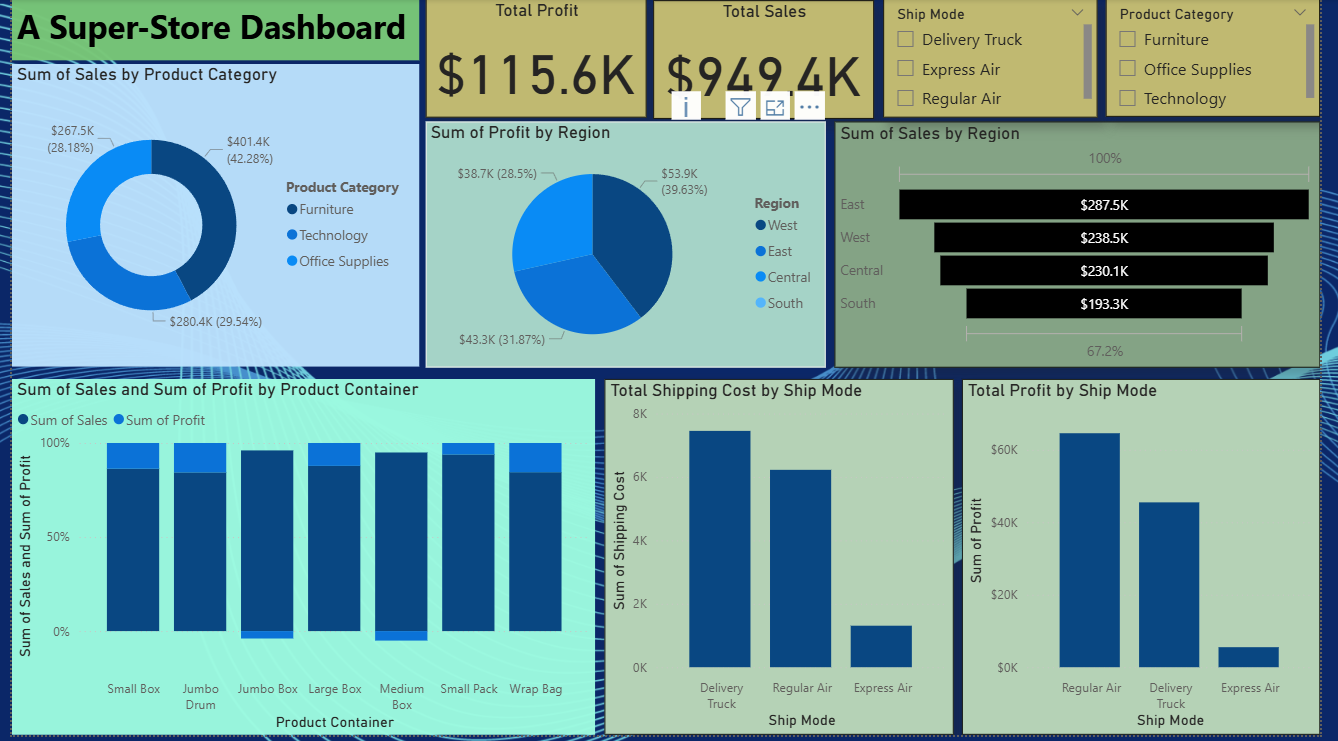

The page's visual inventory and layout, read from the dashboard file:
{"tool":"powerbi","page":{"name":"Page 1","canvas":[1280,720],"ordinal":0},"visuals":[{"type":"textbox","box":[0,0,398.8,59.8],"z":0},{"type":"card","title":"Total Profit","fields":{"Values":["Sum(SuperStoreUS-2015 xlsx.Profit)"]},"box":[404.9,0,216,116],"z":1},{"type":"card","title":"Total Sales","fields":{"Values":["Sum(SuperStoreUS-2015 xlsx.Sales)"]},"box":[627.2,1.2,216,116],"z":2},{"type":"funnel","fields":{"Category":["SuperStoreUS-2015 xlsx.Region"],"Y":["Sum(SuperStoreUS-2015 xlsx.Sales)"]},"box":[804.9,119.8,475.3,240.7],"z":4},{"type":"slicer","fields":{"Values":["SuperStoreUS-2015 xlsx.Ship Mode"]},"box":[851.9,0,209.9,116],"z":5},{"type":"lineStackedColumnComboChart","title":"Total Shipping Cost by Ship Mode","fields":{"Y":["Sum(SuperStoreUS-2015 xlsx.Shipping Cost)"],"Category":["SuperStoreUS-2015 xlsx.Ship Mode"]},"box":[579,371.6,342,348.1],"z":6},{"type":"lineStackedColumnComboChart","title":"Total Profit by Ship Mode","fields":{"Y":["Sum(SuperStoreUS-2015 xlsx.Profit)"],"Category":["SuperStoreUS-2015 xlsx.Ship Mode"]},"box":[929.6,371.6,350.6,348.1],"z":7},{"type":"pieChart","fields":{"Category":["SuperStoreUS-2015 xlsx.Region"],"Y":["Sum(SuperStoreUS-2015 xlsx.Profit)"]},"box":[404.9,119.8,391.4,240.7],"z":8},{"type":"donutChart","fields":{"Category":["SuperStoreUS-2015 xlsx.Product Category"],"Y":["Sum(SuperStoreUS-2015 xlsx.Sales)"]},"box":[0,64.2,398.8,296.3],"z":9},{"type":"hundredPercentStackedColumnChart","fields":{"Category":["SuperStoreUS-2015 xlsx.Product Container"],"Y":["Sum(SuperStoreUS-2015 xlsx.Sales)","Sum(SuperStoreUS-2015 xlsx.Profit)"]},"box":[0,371.6,570.4,348.1],"z":10},{"type":"slicer","fields":{"Values":["SuperStoreUS-2015 xlsx.Product Category"]},"box":[1070.4,0,209.9,114.8],"z":11}]}

Visuals, with their boxes in screenshot pixels (x1, y1, x2, y2), scaled from the page's 1280x720 canvas onto the 1338x741 screenshot:
textbox: box(0, 0, 417, 62)
"Total Profit" card: box(423, 0, 649, 119)
"Total Sales" card: box(656, 1, 881, 121)
funnel - SuperStoreUS-2015 xlsx.Region x Sum(SuperStoreUS-2015 xlsx.Sales): box(841, 123, 1337, 371)
slicer - SuperStoreUS-2015 xlsx.Ship Mode: box(891, 0, 1110, 119)
"Total Shipping Cost by Ship Mode" lineStackedColumnComboChart: box(605, 382, 963, 740)
"Total Profit by Ship Mode" lineStackedColumnComboChart: box(972, 382, 1337, 740)
pieChart - SuperStoreUS-2015 xlsx.Region x Sum(SuperStoreUS-2015 xlsx.Profit): box(423, 123, 832, 371)
donutChart - SuperStoreUS-2015 xlsx.Product Category x Sum(SuperStoreUS-2015 xlsx.Sales): box(0, 66, 417, 371)
hundredPercentStackedColumnChart - SuperStoreUS-2015 xlsx.Product Container x Sum(SuperStoreUS-2015 xlsx.Sales): box(0, 382, 596, 740)
slicer - SuperStoreUS-2015 xlsx.Product Category: box(1119, 0, 1337, 118)
